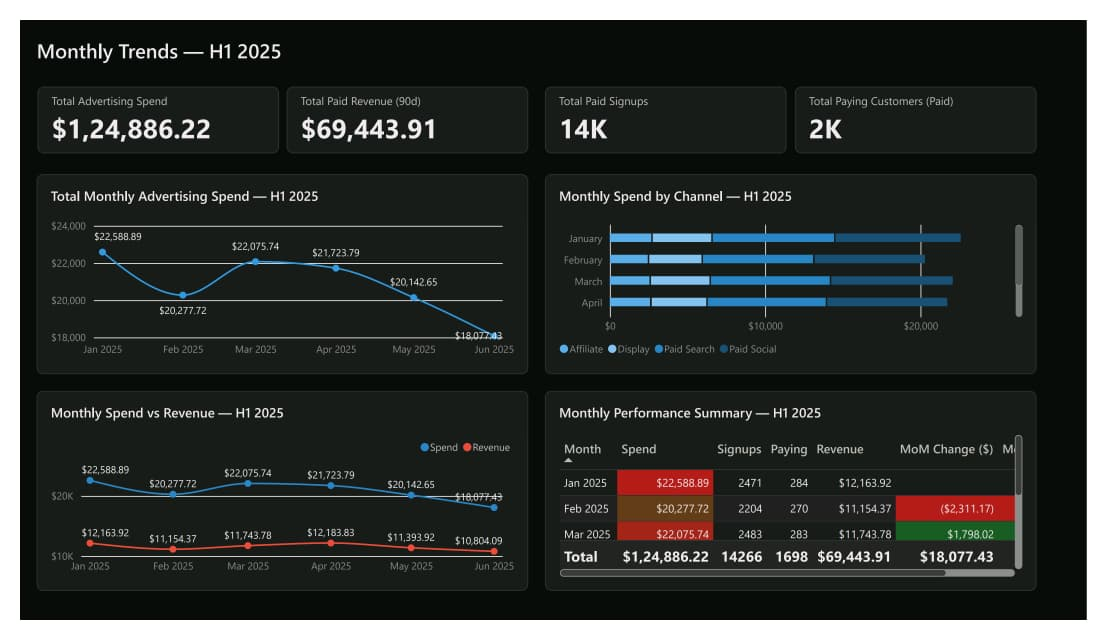

What the dashboard file says about the page in this screenshot:
{"tool":"powerbi","page":{"name":"Monthly Trends","canvas":[1280,720],"ordinal":3},"visuals":[{"type":"textbox","box":[20,20,1240,40],"z":0},{"type":"cardVisual","title":"Total Advertising Spend","fields":{"Data":["_Measures.Total Advertising Spend"]},"box":[20.6,80,290,80],"z":2000},{"type":"cardVisual","title":"Total Paid Revenue (90d)","fields":{"Data":["_Measures.Total Paid Revenue (90d)"]},"box":[320,80,290,80],"z":3000},{"type":"cardVisual","title":"Total Paid Signups","fields":{"Data":["_Measures.Total Paid Signups"]},"box":[630,80,290,80],"z":4000},{"type":"cardVisual","title":"Total Paying Customers (Paid)","fields":{"Data":["_Measures.Total Paying Customers (Paid)"]},"box":[930,80,290,80],"z":5000},{"type":"lineChart","title":"Total Monthly Advertising Spend — H1 2025","fields":{"Category":["monthly_channel_detail.month"],"Y":["Sum(monthly_channel_detail.spend)"]},"box":[20,185,590,240],"z":6000},{"type":"barChart","title":"Monthly Spend by Channel — H1 2025","fields":{"Category":["monthly_channel_detail.month.Variation.Date Hierarchy.Month"],"Series":["monthly_channel_detail.channel_key"],"Y":["Sum(monthly_channel_detail.spend)"]},"box":[630,185,590,240],"z":7000},{"type":"tableEx","title":"Monthly Performance Summary — H1 2025","fields":{"Values":["monthly_trend.month","Sum(monthly_trend.spend)","Sum(monthly_trend.signups)","Sum(monthly_trend.paying)","Sum(monthly_trend.revenue)","_Measures.MoM Spend Change","_Measures.MoM Spend Growth %"]},"box":[630,445,590,240],"z":8000},{"type":"lineChart","title":"Monthly Spend vs Revenue — H1 2025","fields":{"Category":["monthly_trend.month"],"Y":["Sum(monthly_trend.spend)","Sum(monthly_trend.revenue)"]},"box":[20,445,590,240],"z":9000}]}

Visuals, with their boxes in screenshot pixels (x1, y1, x2, y2), scaled from the page's 1280x720 canvas onto the 1107x640 screenshot:
textbox: {"left": 17, "top": 18, "right": 1090, "bottom": 53}
"Total Advertising Spend" cardVisual: {"left": 18, "top": 71, "right": 269, "bottom": 142}
"Total Paid Revenue (90d)" cardVisual: {"left": 277, "top": 71, "right": 528, "bottom": 142}
"Total Paid Signups" cardVisual: {"left": 545, "top": 71, "right": 796, "bottom": 142}
"Total Paying Customers (Paid)" cardVisual: {"left": 804, "top": 71, "right": 1055, "bottom": 142}
"Total Monthly Advertising Spend — H1 2025" lineChart: {"left": 17, "top": 164, "right": 528, "bottom": 378}
"Monthly Spend by Channel — H1 2025" barChart: {"left": 545, "top": 164, "right": 1055, "bottom": 378}
"Monthly Performance Summary — H1 2025" tableEx: {"left": 545, "top": 396, "right": 1055, "bottom": 609}
"Monthly Spend vs Revenue — H1 2025" lineChart: {"left": 17, "top": 396, "right": 528, "bottom": 609}
